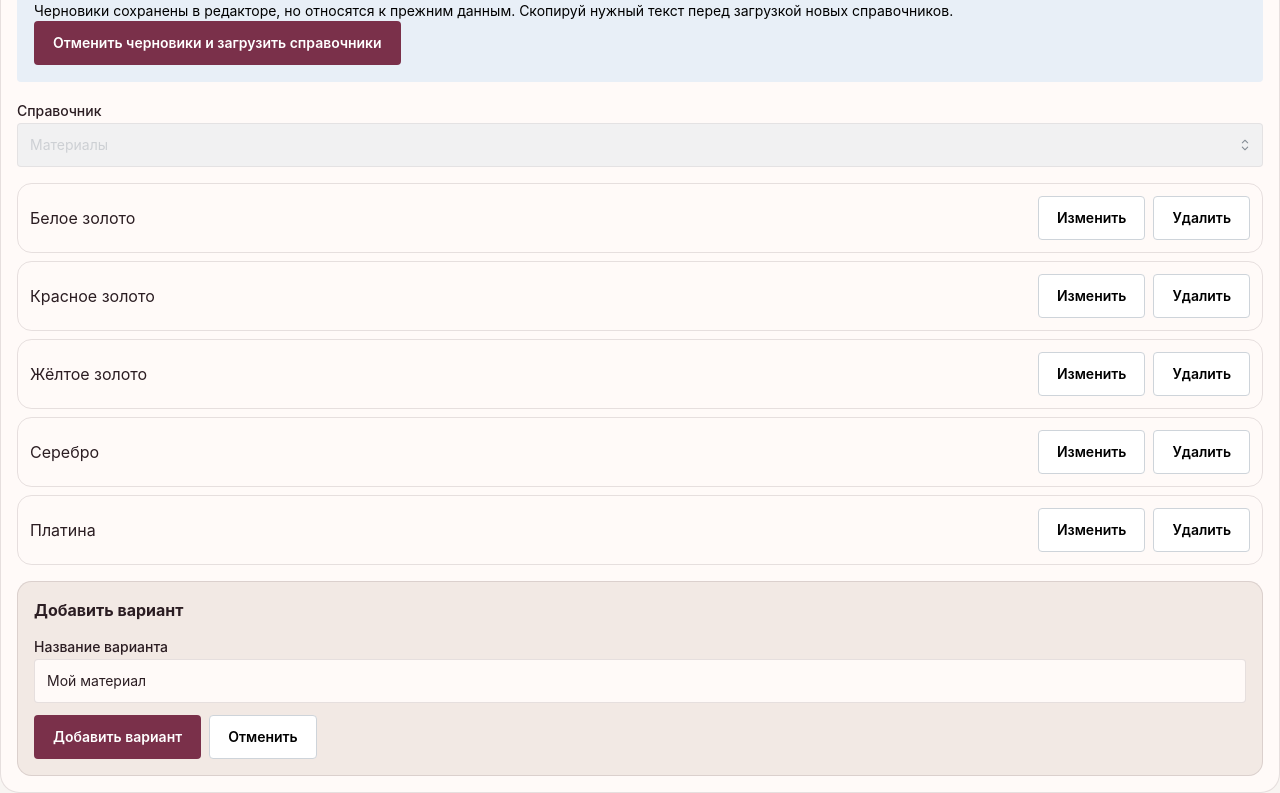
Test: dictionary editor › keeps old generation and draft across restore until explicit reset
The image size is (1280, 793).
Earlier steps of the test are not shown.
(page scrolled)
Expected: the field labelled "Название варианта" holds "Мой материал", [34, 659, 1246, 703]
Click the button "Добавить вариант".
click(118, 737)  # box [34, 715, 201, 759]
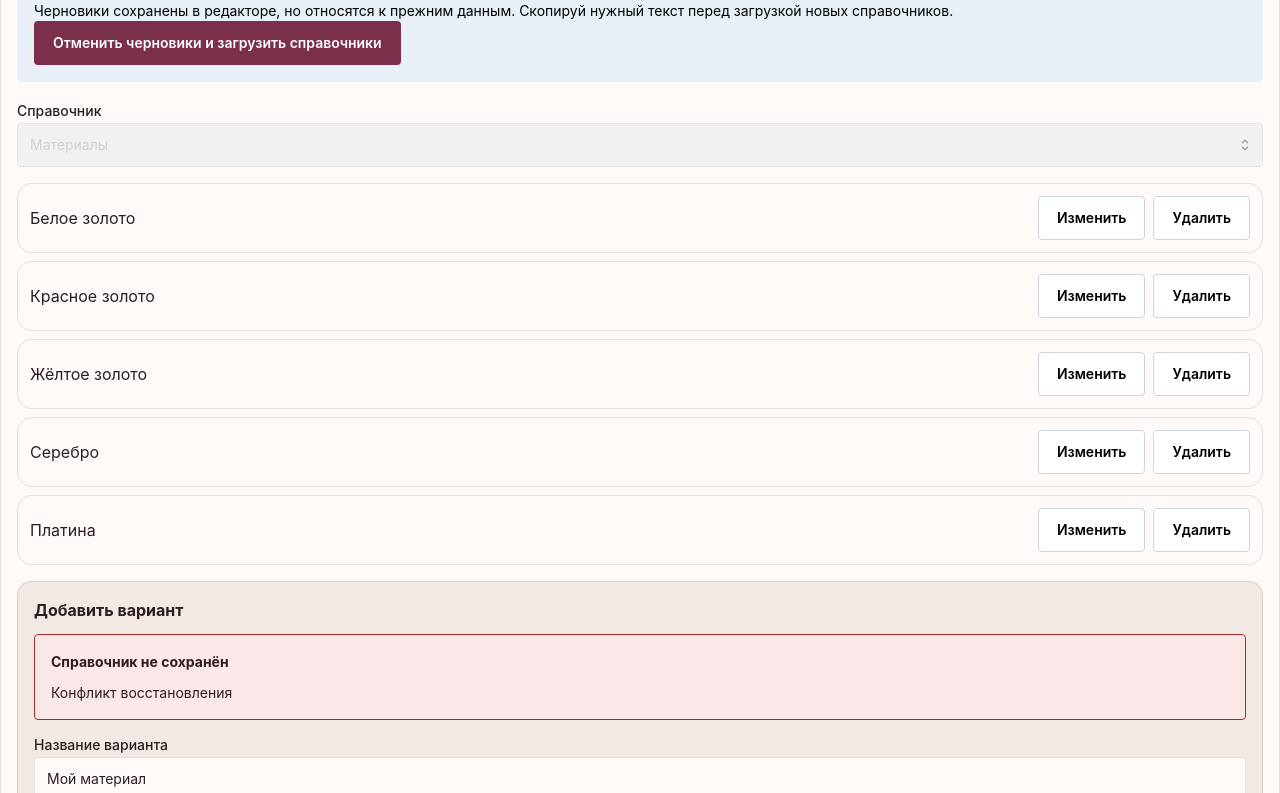
Result: the text "Конфликт восстановления" is shown at [51, 684, 232, 701]
Click the button "Отменить черновики и загрузить справочники".
click(217, 43)  # box [34, 21, 401, 65]
(page scrolled)
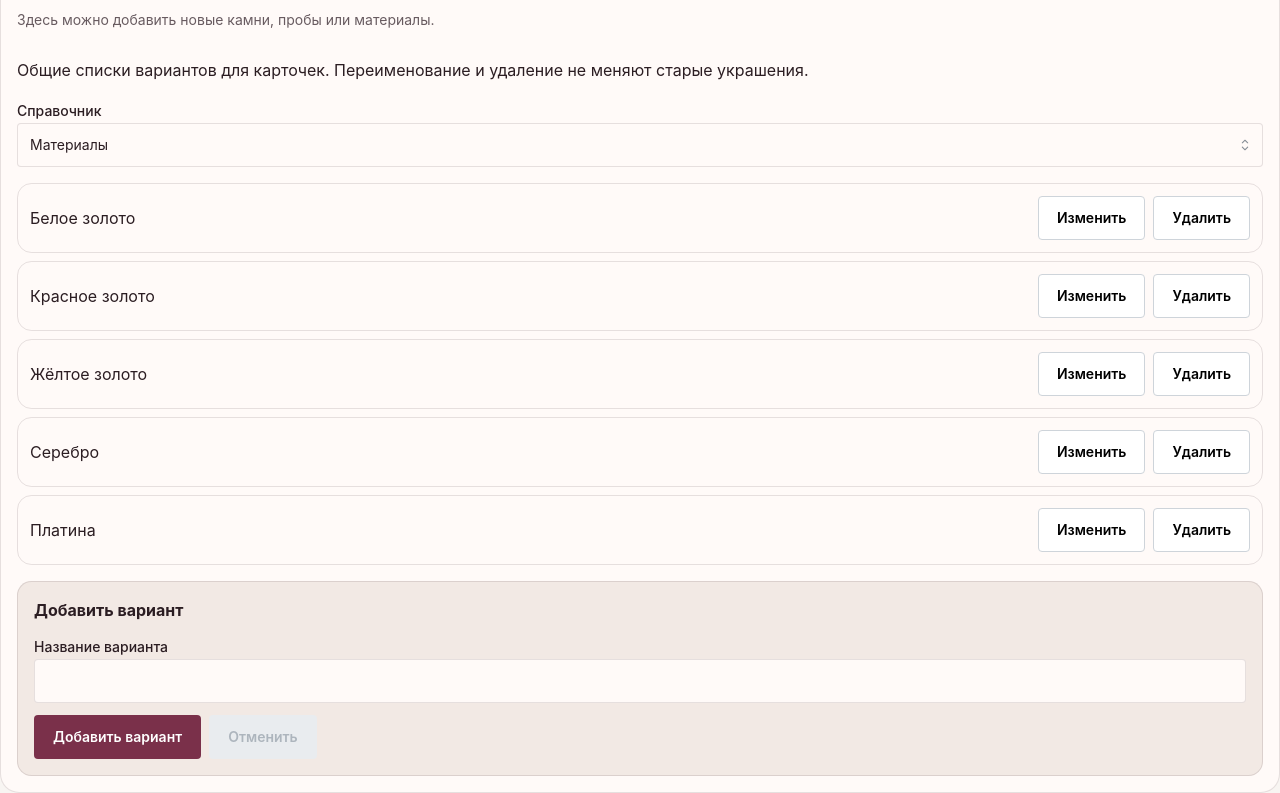
Result: the field labelled "Название варианта" is empty
Type "Новый материал" into the field labelled "Название варианта".
click(640, 681); type("Новый материал")  # box [34, 659, 1246, 703]
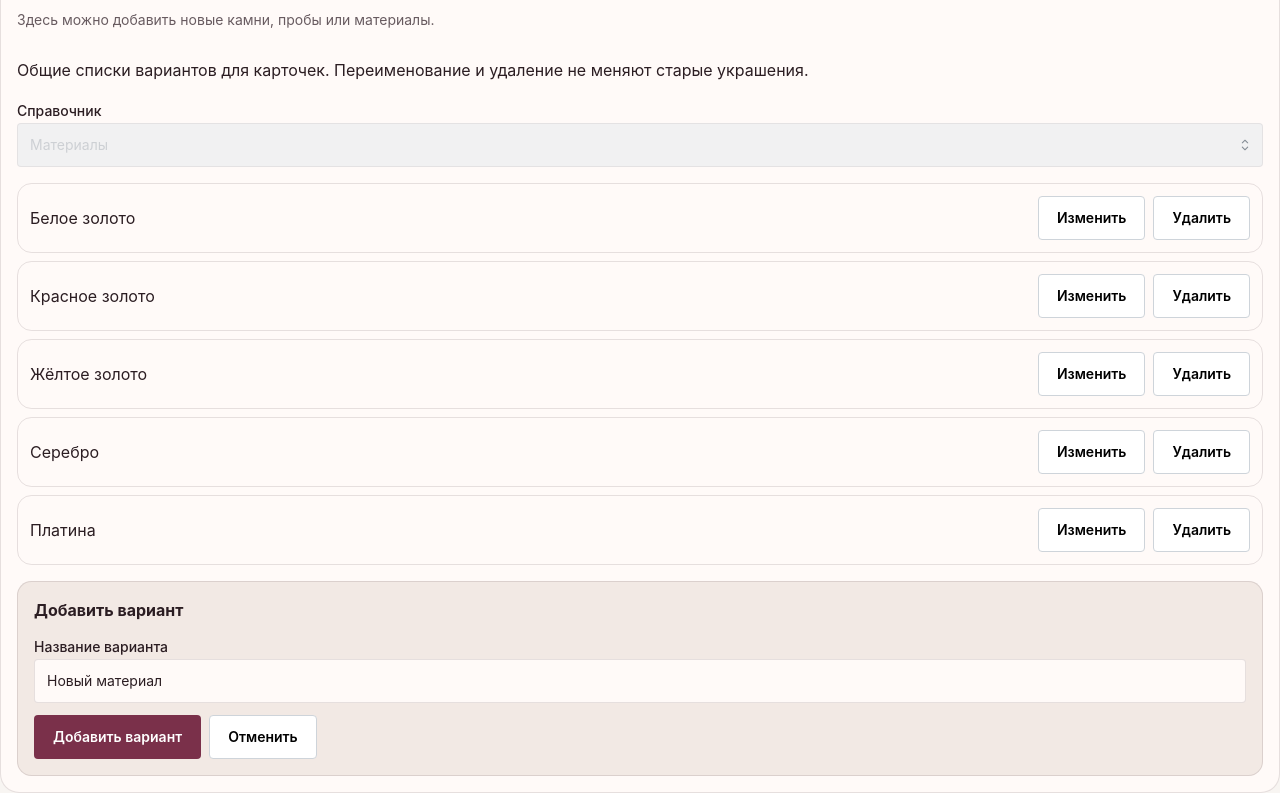
Click the button "Добавить вариант".
click(118, 737)  # box [34, 715, 201, 759]
(page scrolled)
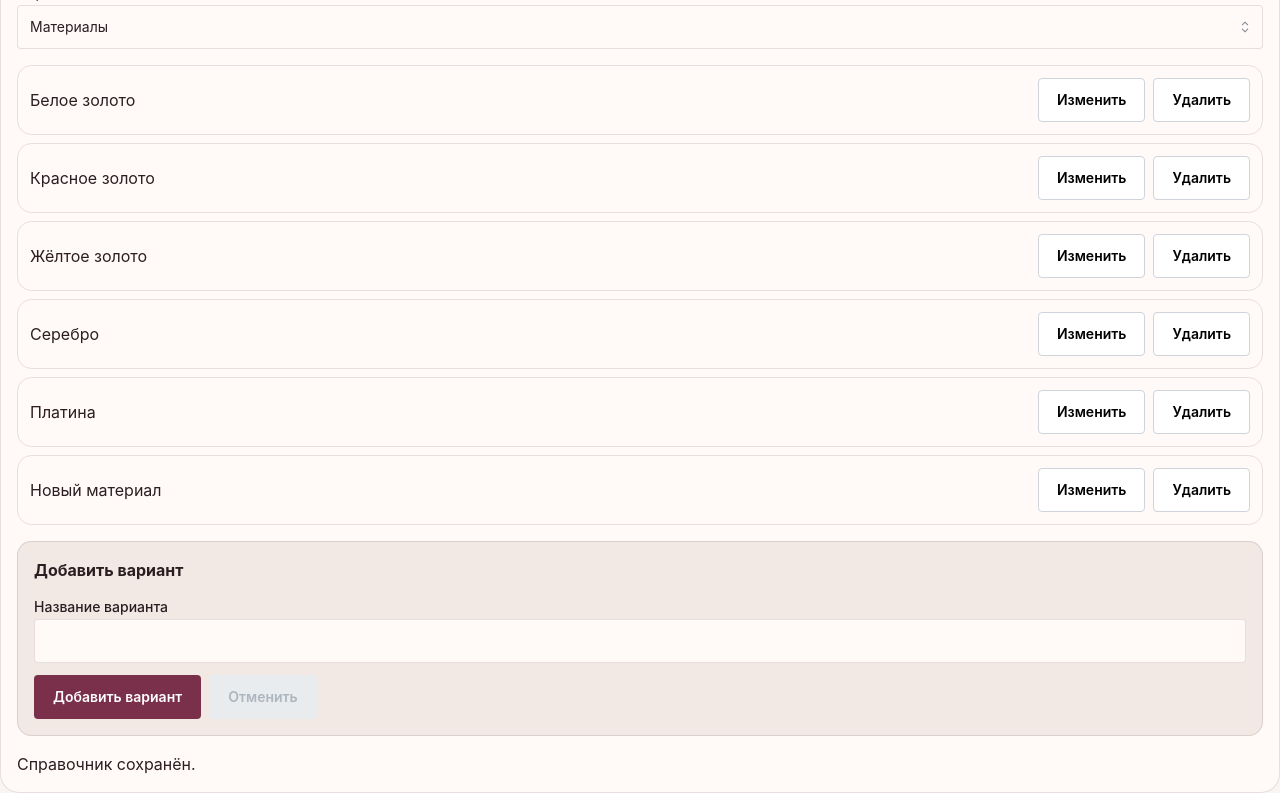
Result: the text "Справочник сохранён." is shown at [17, 754, 196, 774]
